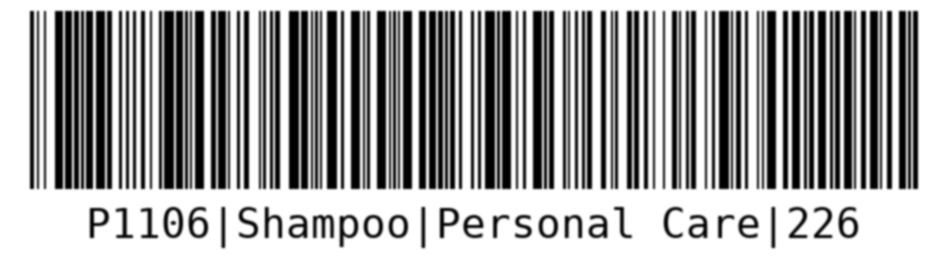milk: (22, 6, 925, 256)
